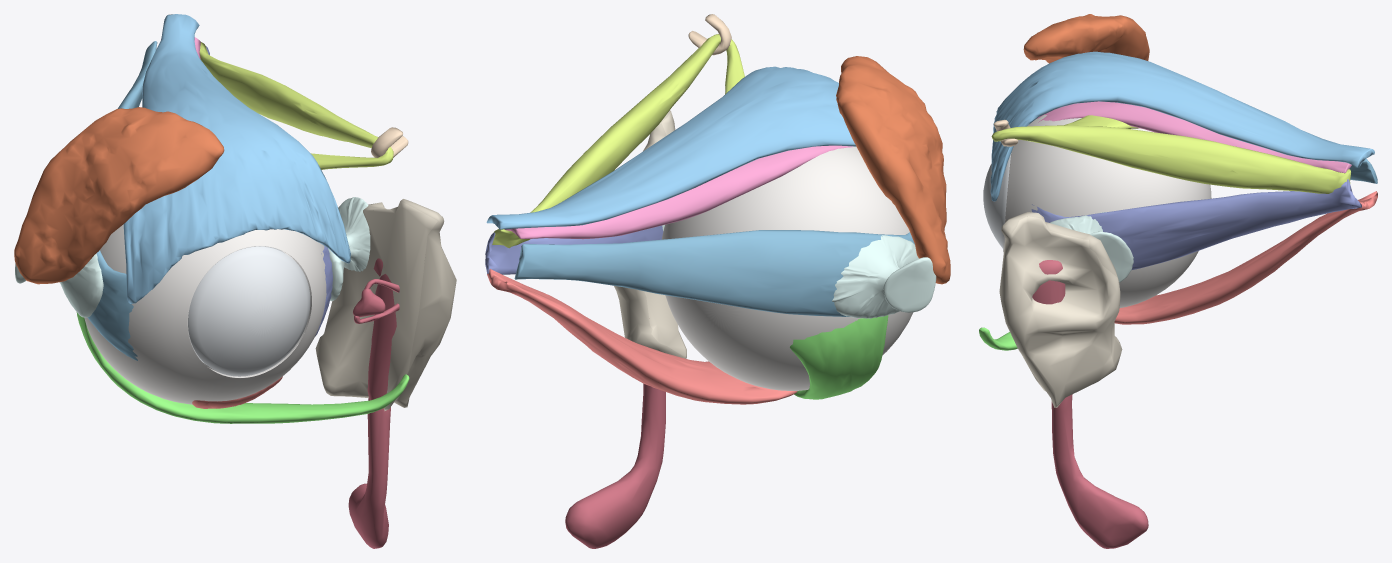
The model's file is eye.glb.
3 renders of one model, left to right at view 1: azimuth 30°, elevation 25°; view 2: azimuth 150°, elevation 25°; view 3: azimuth 270°, elevation 25°, orthographic. The views are drawn at different scales.
Parts seen in each view (by area): view 1: Levator palpebrae superioris (right), Lacrimal gland (right), Lacrimal bone (right), Sclera (right), Cornea (right), Superior oblique muscle (right), Inferior oblique muscle (right), Suspensory ligament of eyeball (right), Nasolacrimal duct (right), Lateral rectus muscle (right), Lacrimal sac (right), Trochlea of superior oblique muscle (right) (+2 smaller); view 2: Sclera (right), Lateral rectus muscle (right), Levator palpebrae superioris (right), Lacrimal gland (right), Inferior rectus muscle (right), Superior oblique muscle (right), Superior rectus muscle (right), Nasolacrimal duct (right), Suspensory ligament of eyeball (right), Inferior oblique muscle (right), Lacrimal bone (right), Medial rectus muscle (right) (+1 smaller); view 3: Lacrimal bone (right), Levator palpebrae superioris (right), Sclera (right), Superior oblique muscle (right), Medial rectus muscle (right), Inferior rectus muscle (right), Nasolacrimal duct (right), Lacrimal gland (right), Superior rectus muscle (right), Suspensory ligament of eyeball (right), Cornea (right), Lacrimal sac (right) (+1 smaller).
Boxes of the visible parts, left/top/right/bottom form: Levator palpebrae superioris (right): left=123, top=14, right=350, bottom=303; Lacrimal gland (right): left=14, top=107, right=224, bottom=284; Lacrimal bone (right): left=315, top=199, right=456, bottom=410; Sclera (right): left=84, top=224, right=326, bottom=404; Cornea (right): left=188, top=246, right=310, bottom=376; Superior oblique muscle (right): left=199, top=41, right=393, bottom=169; Inferior oblique muscle (right): left=76, top=312, right=409, bottom=423; Suspensory ligament of eyeball (right): left=15, top=197, right=370, bottom=317; Nasolacrimal duct (right): left=348, top=398, right=390, bottom=548; Lateral rectus muscle (right): left=87, top=41, right=157, bottom=360; Lacrimal sac (right): left=367, top=258, right=396, bottom=400; Trochlea of superior oblique muscle (right): left=371, top=127, right=408, bottom=157; Sclera (right): left=662, top=146, right=913, bottom=390; Lateral rectus muscle (right): left=514, top=230, right=914, bottom=316; Levator palpebrae superioris (right): left=486, top=66, right=856, bottom=229; Lacrimal gland (right): left=836, top=56, right=950, bottom=284; Inferior rectus muscle (right): left=487, top=269, right=797, bottom=404; Superior oblique muscle (right): left=492, top=34, right=744, bottom=248; Superior rectus muscle (right): left=504, top=145, right=852, bottom=239; Nasolacrimal duct (right): left=565, top=383, right=665, bottom=548; Suspensory ligament of eyeball (right): left=662, top=225, right=936, bottom=318; Inferior oblique muscle (right): left=790, top=315, right=888, bottom=399; Lacrimal bone (right): left=614, top=110, right=686, bottom=358; Medial rectus muscle (right): left=485, top=225, right=663, bottom=274; Lacrimal bone (right): left=999, top=212, right=1122, bottom=407; Levator palpebrae superioris (right): left=990, top=51, right=1374, bottom=201; Sclera (right): left=1003, top=115, right=1211, bottom=307; Superior oblique muscle (right): left=991, top=115, right=1350, bottom=193; Medial rectus muscle (right): left=1031, top=179, right=1361, bottom=270; Inferior rectus muscle (right): left=1114, top=191, right=1377, bottom=324; Nasolacrimal duct (right): left=1051, top=394, right=1148, bottom=548; Lacrimal gland (right): left=1023, top=14, right=1149, bottom=63; Superior rectus muscle (right): left=1037, top=101, right=1351, bottom=173; Suspensory ligament of eyeball (right): left=1050, top=212, right=1133, bottom=282; Cornea (right): left=983, top=153, right=1011, bottom=248; Lacrimal sac (right): left=1032, top=260, right=1065, bottom=304.
Bounding box in the file's own units: 0.044 × 0.0571 × 0.0478.
